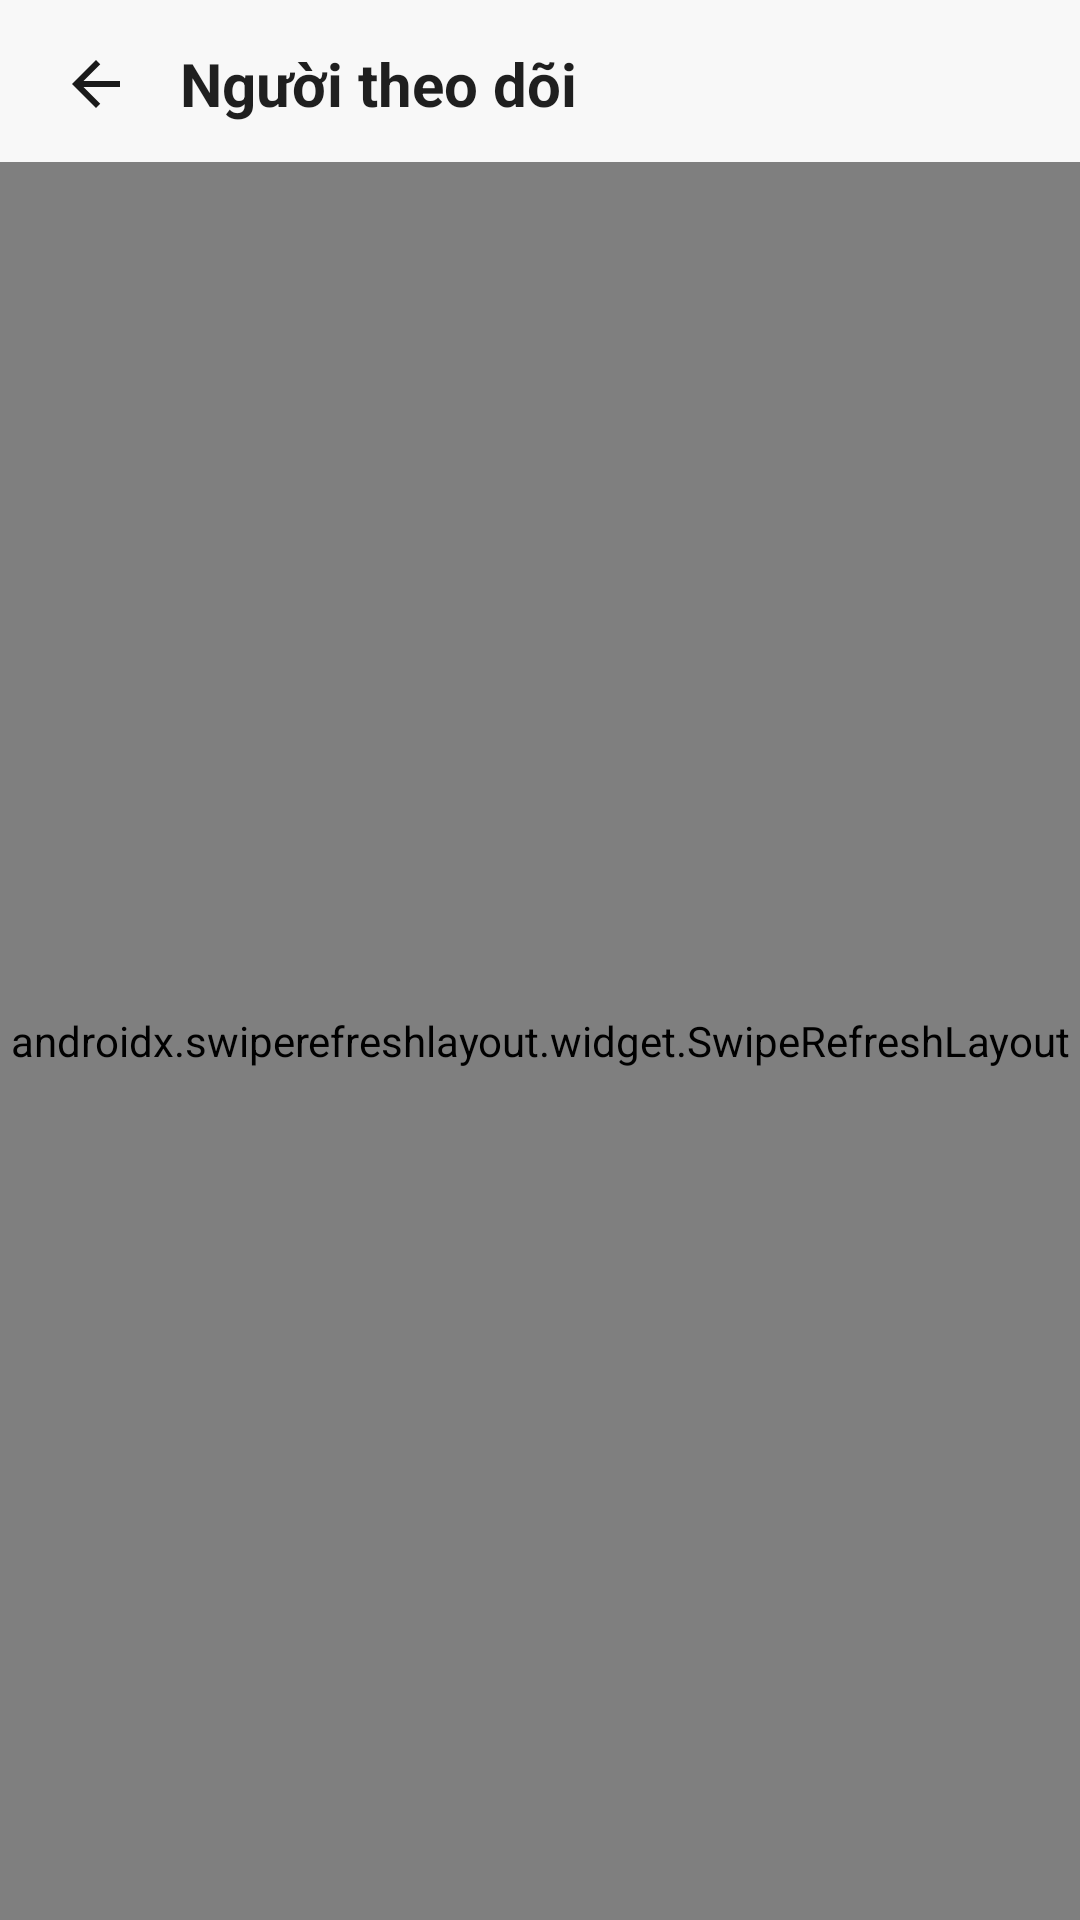

Icon bounding boxes for this 1080px x 1920px phone screenshot, format (left=x1, top=y1, right=x2, bottom=y2):
Quay lại: (left=72, top=60, right=120, bottom=108)
